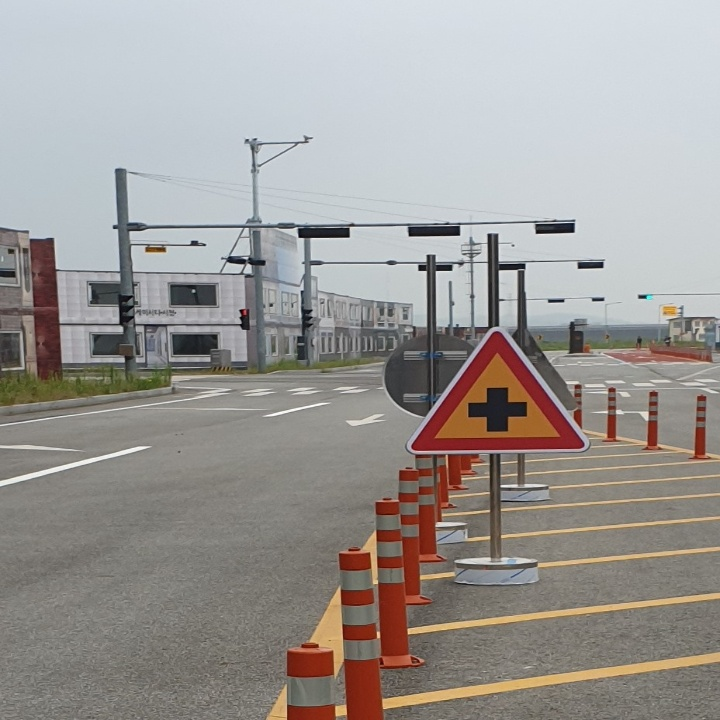inter: (463, 381, 532, 439)
